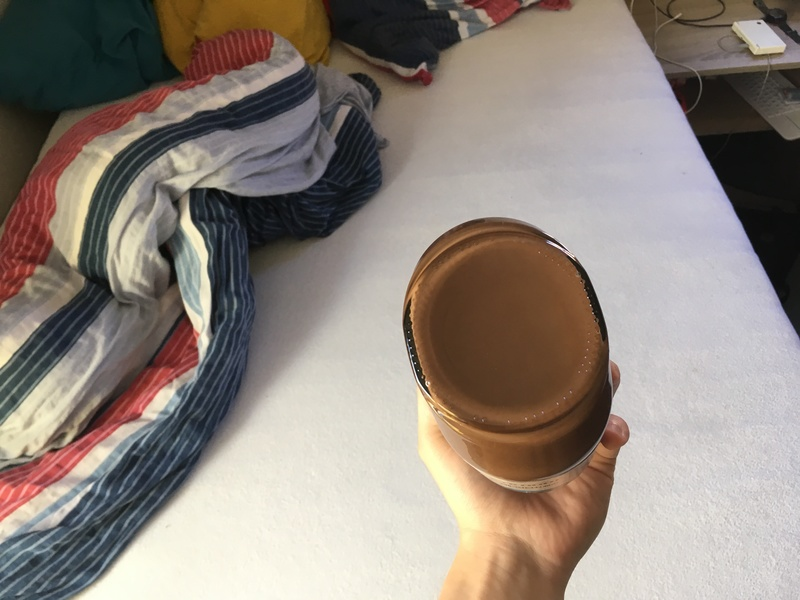nutella: (403, 216, 612, 493)
